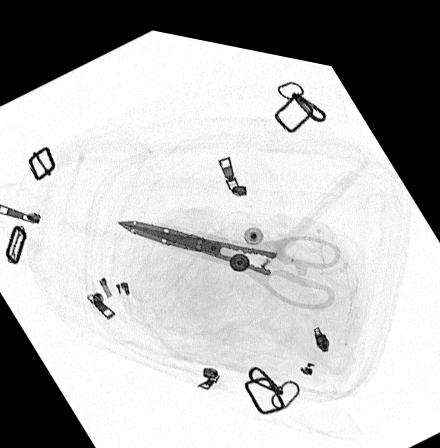Scissors: (115, 215, 339, 296)
